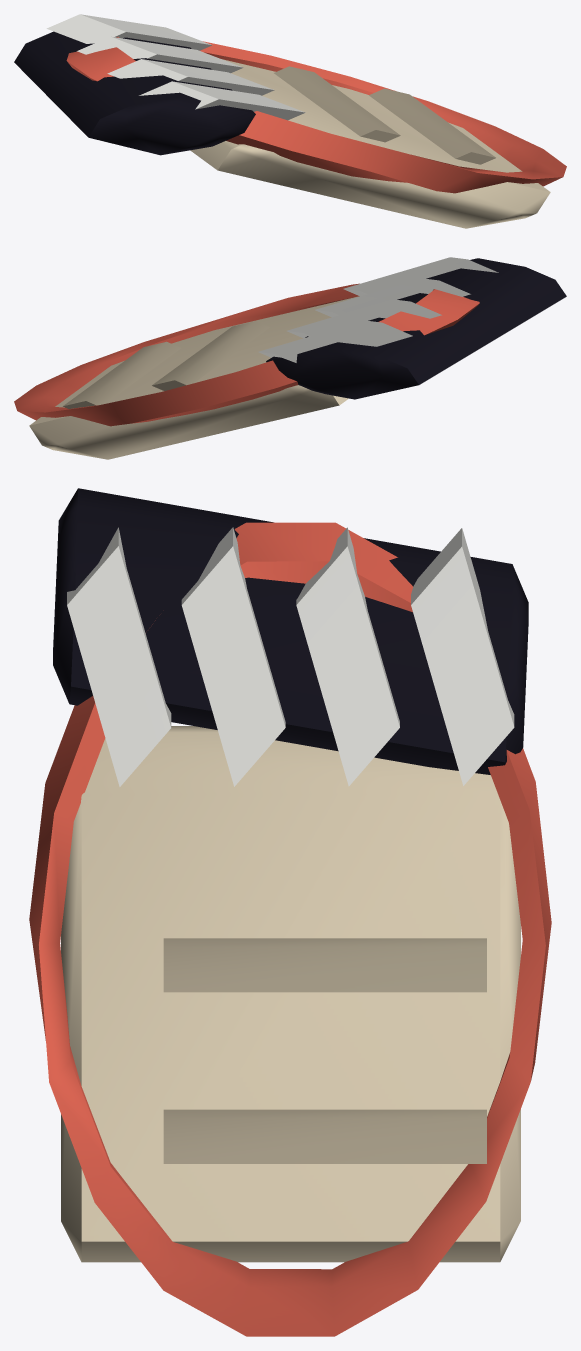
File: SM_Crew_CapBadge.fbx
The picture shows the model from 3 angles, top to bottom: view 1: azimuth 30°, elevation 25°; view 2: azimuth 150°, elevation 25°; view 3: azimuth 270°, elevation 25°; orthographic projection. The views are drawn at different scales.
Parts seen in each view (by area): view 1: SM_Crew_CapBadge; view 2: SM_Crew_CapBadge; view 3: SM_Crew_CapBadge.
Part boxes in pixels (x1,y1,x2,y2): SM_Crew_CapBadge: (14, 14, 566, 228); SM_Crew_CapBadge: (14, 257, 566, 459); SM_Crew_CapBadge: (29, 488, 551, 1336).
Bounding box in the file's own units: 219 × 89.42 × 101.
